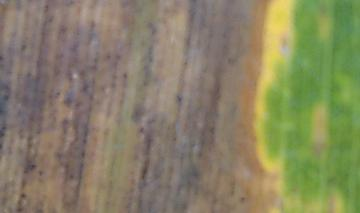tarspot: (277, 31, 290, 52), (16, 192, 27, 213), (61, 116, 70, 138), (144, 21, 158, 35), (222, 55, 237, 66), (16, 41, 27, 53), (1, 123, 9, 139), (62, 97, 73, 108), (41, 3, 51, 15), (137, 122, 146, 135), (173, 93, 183, 103), (28, 161, 37, 171), (239, 194, 246, 204), (37, 169, 45, 177), (121, 71, 128, 80), (182, 59, 188, 67), (68, 172, 74, 180), (3, 93, 9, 100), (1, 140, 4, 152)
